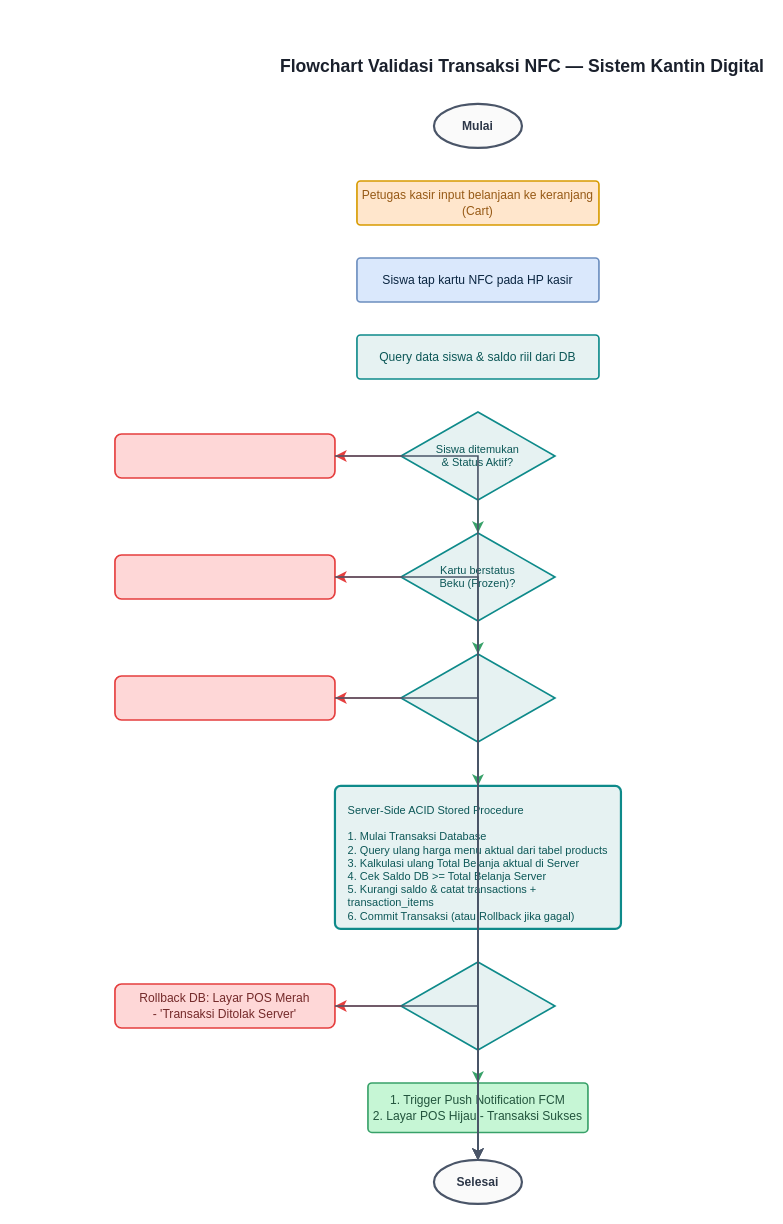
Some shapes in this 783 by 1224 pixel diagram are drawn without their labels. The centre of each missing label's shape, as x and y in pixels:
Layar POS: 'Kartu Sedang Dibekukan': pixel 224 576
Layar POS: 'Kartu Tidak Valid / Blokir': pixel 224 455
Layar POS: 'Saldo Tidak Cukup': pixel 224 697
Saldo Aktual >= Total Belanja?: pixel 477 697
Transaksi Database Sukses?: pixel 477 1005
